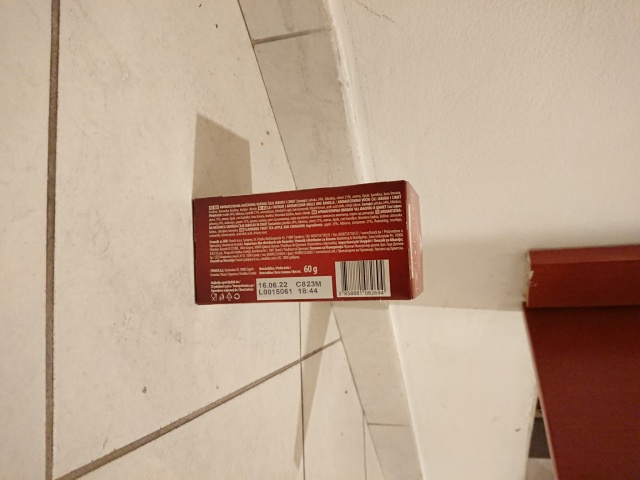Franck Apple Cinnamon Tea 60g: (188, 176, 427, 309)
